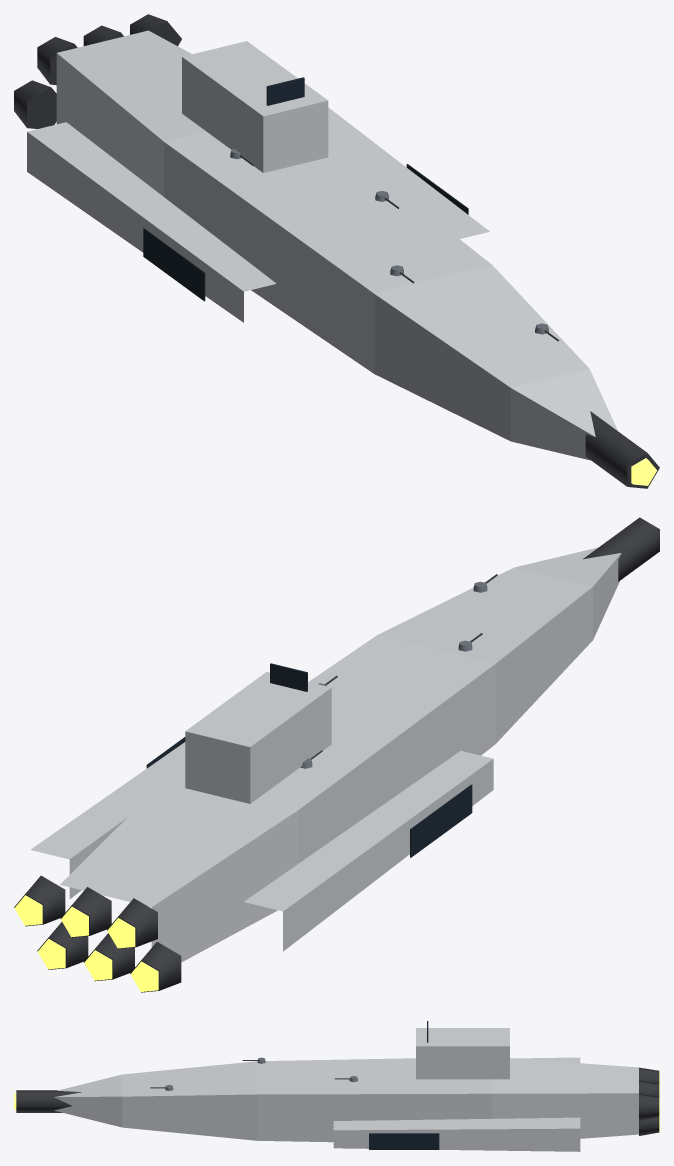
Rendered from space_ship_battleship_mk1_lod1.glb.
3 views of the same model, one above another, from view 1: azimuth 30°, elevation 25°; view 2: azimuth 150°, elevation 25°; view 3: azimuth 270°, elevation 25° (orthographic). The views are drawn at different scales.
Parts seen in each view (by area): view 1: body, main_gun, hangar_r, engine_0, engine_1, engine_5; view 2: body, main_gun, hangar_r, engine_0, engine_5, engine_3, engine_1, engine_4, engine_2; view 3: body, hangar_l, main_gun, engine_5, engine_4, engine_1, engine_3.
Boxes of the visible parts, x1=… form: body: x1=27, y1=30, x2=617, y2=460; main_gun: x1=585, y1=411, x2=659, y2=488; hangar_r: x1=143, y1=228, x2=205, y2=301; engine_0: x1=14, y1=80, x2=56, y2=128; engine_1: x1=37, y1=37, x2=77, y2=85; engine_5: x1=130, y1=14, x2=181, y2=46; body: x1=30, y1=547, x2=621, y2=962; main_gun: x1=583, y1=517, x2=659, y2=581; hangar_r: x1=410, y1=784, x2=472, y2=857; engine_0: x1=130, y1=942, x2=181, y2=992; engine_5: x1=14, y1=875, x2=65, y2=926; engine_3: x1=60, y1=887, x2=111, y2=937; engine_1: x1=107, y1=898, x2=157, y2=948; engine_4: x1=37, y1=922, x2=88, y2=969; engine_2: x1=83, y1=933, x2=134, y2=981; body: x1=54, y1=1021, x2=638, y2=1151; hangar_l: x1=369, y1=1133, x2=439, y2=1149; main_gun: x1=14, y1=1090, x2=81, y2=1112; engine_5: x1=639, y1=1094, x2=659, y2=1120; engine_4: x1=639, y1=1116, x2=659, y2=1135; engine_1: x1=639, y1=1067, x2=659, y2=1084; engine_3: x1=639, y1=1080, x2=659, y2=1097.
Size of the model in its own units: 28.5 by 19.18 by 104.
